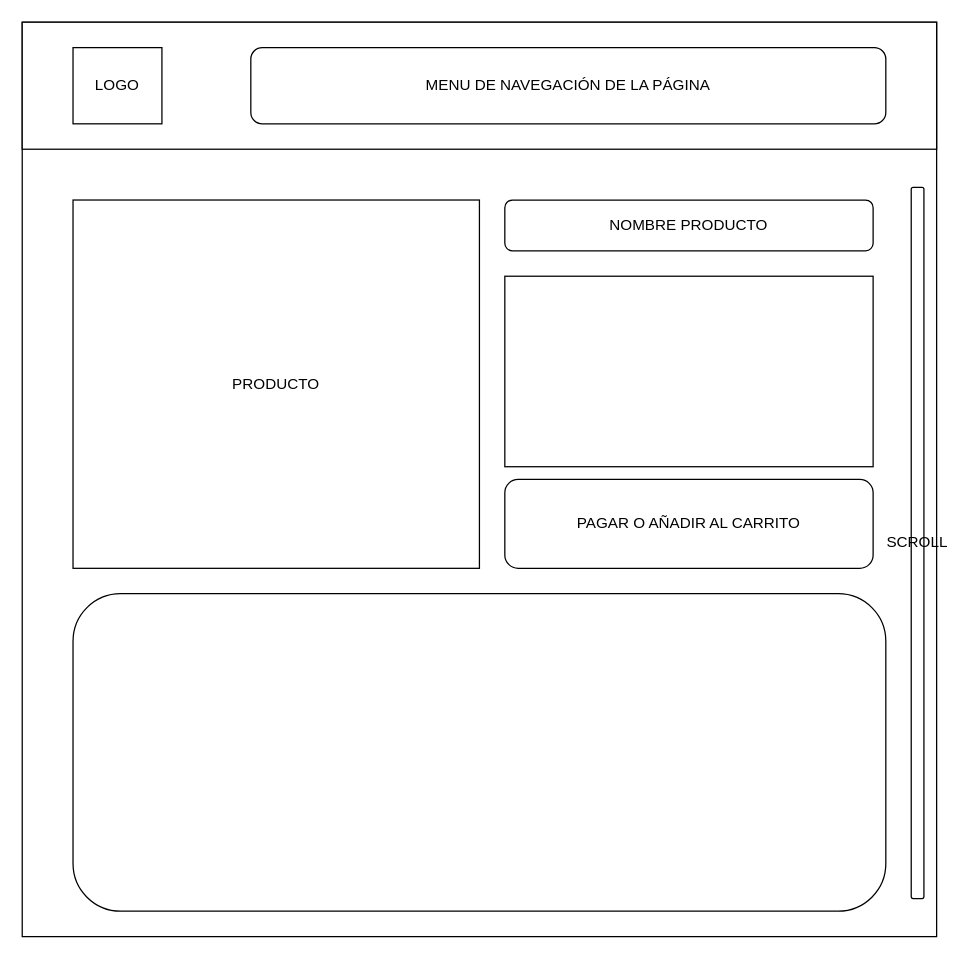
Image size: 970x959. Some labels were removed from this diagram. Here are the shapes that lost their labels. From the top down, the centre of each, then its label:
pixel 688 371: CARACTEISTICAS
pixel 479 751: DESCRIPCION GENERAL DEL PRODUCTO
